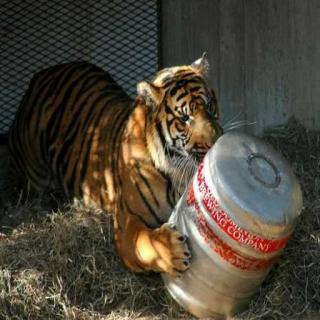Tiger: (0, 36, 259, 256)
